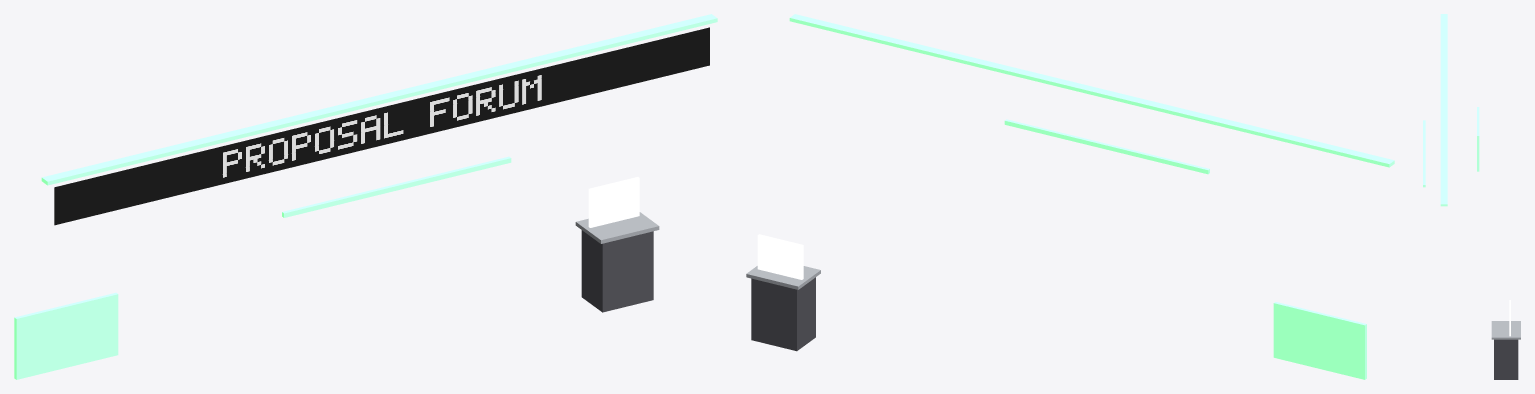
The model's file is room-s27-genomic-dao-3.glb.
The picture shows the model from 3 angles, left to right: view 1: azimuth 30°, elevation 25°; view 2: azimuth 150°, elevation 25°; view 3: azimuth 270°, elevation 25°; orthographic projection. The views are drawn at different scales.
Visible parts, largest first — view 1: Genomic.DAO Proposal Forum room; view 2: Genomic.DAO Proposal Forum room; view 3: Genomic.DAO Proposal Forum room.
Boxes of the visible parts, x1,y1,x2,y2 form: Genomic.DAO Proposal Forum room: (14, 14, 717, 379); Genomic.DAO Proposal Forum room: (746, 14, 1394, 379); Genomic.DAO Proposal Forum room: (1423, 14, 1520, 379).
Bounding box in the file's own units: 9.2 × 4.08 × 2.
Materials: 5 (1 with a texture image).
